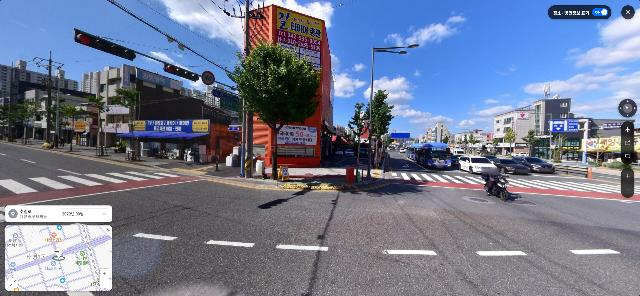other: (226, 33, 324, 180), (363, 89, 396, 169), (115, 88, 143, 160), (348, 102, 369, 178), (83, 96, 106, 156), (57, 105, 86, 151), (26, 101, 44, 145), (553, 127, 572, 162), (501, 123, 518, 155), (525, 129, 541, 158), (464, 133, 479, 154)
